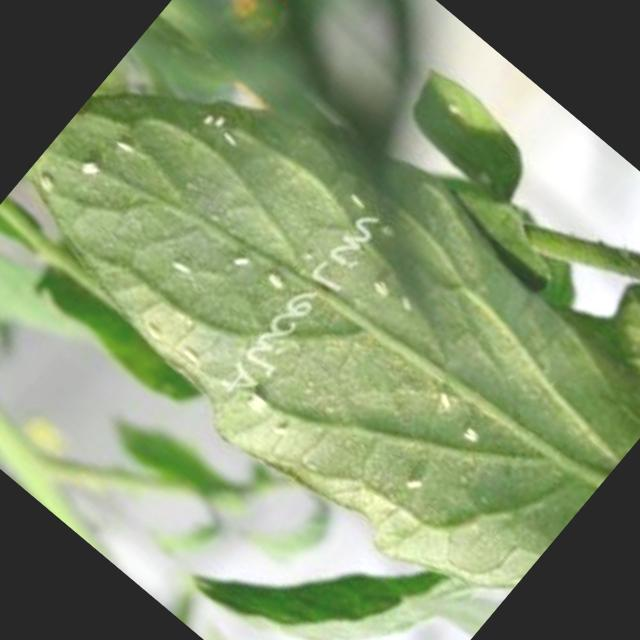Silverleaf whitefly: (161, 322, 227, 388), (64, 136, 118, 192), (24, 156, 77, 209), (157, 235, 210, 288), (122, 308, 174, 358), (102, 120, 153, 170), (215, 232, 264, 283), (238, 378, 280, 422), (255, 258, 297, 300), (390, 462, 432, 504), (452, 414, 494, 455), (422, 378, 464, 418), (361, 268, 402, 308), (218, 117, 254, 154), (266, 410, 302, 444), (199, 102, 234, 136), (389, 284, 424, 318), (341, 184, 375, 218), (376, 214, 408, 246), (189, 99, 220, 128), (466, 163, 497, 192), (294, 238, 322, 266), (438, 92, 464, 120)
